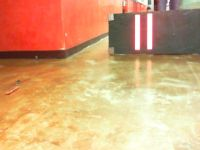switch: (146, 12, 153, 50), (134, 15, 141, 51)
